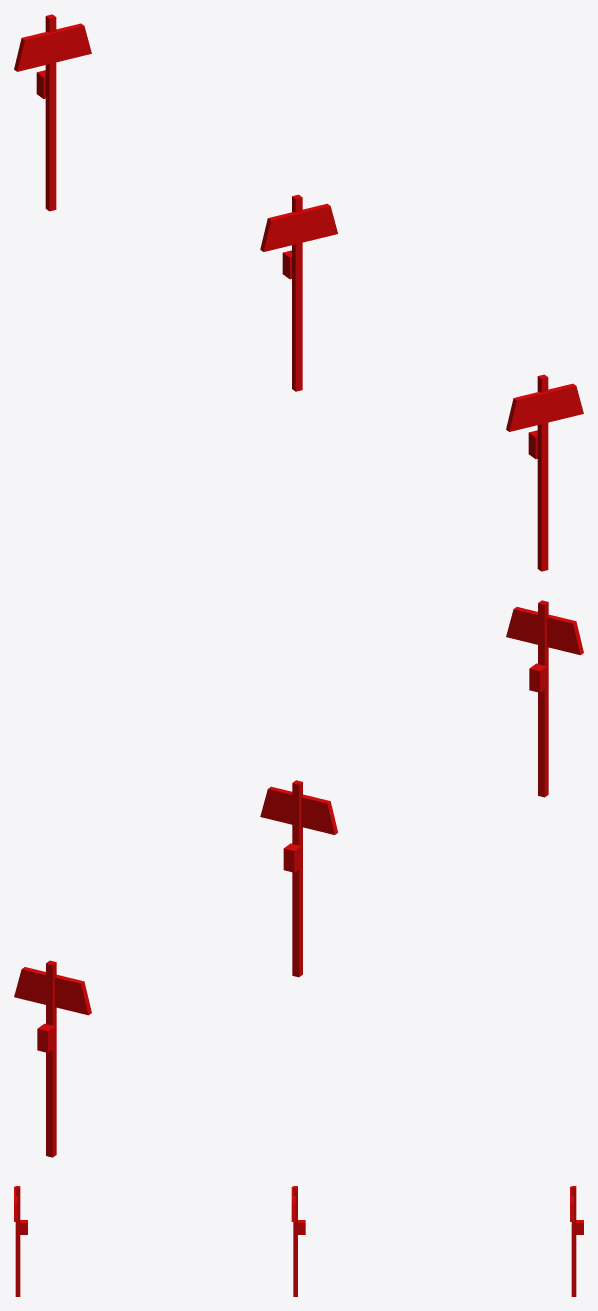
Rendered from SM_Prop_Powerpole_Preset_02_Collision.fbx.
3 renders of one model, top to bottom at view 1: azimuth 30°, elevation 25°; view 2: azimuth 150°, elevation 25°; view 3: azimuth 270°, elevation 25°, orthographic. The views are drawn at different scales.
Visible parts, largest first — view 1: SM_Prop_Powerpole_Preset_02_Collision; view 2: SM_Prop_Powerpole_Preset_02_Collision; view 3: SM_Prop_Powerpole_Preset_02_Collision.
Part boxes in pixels (x1,y1,x2,y2): SM_Prop_Powerpole_Preset_02_Collision: [14, 14, 583, 571]; SM_Prop_Powerpole_Preset_02_Collision: [14, 600, 583, 1157]; SM_Prop_Powerpole_Preset_02_Collision: [14, 1186, 583, 1296].
Bounding box in the file's own units: 263 × 648 × 3075.
